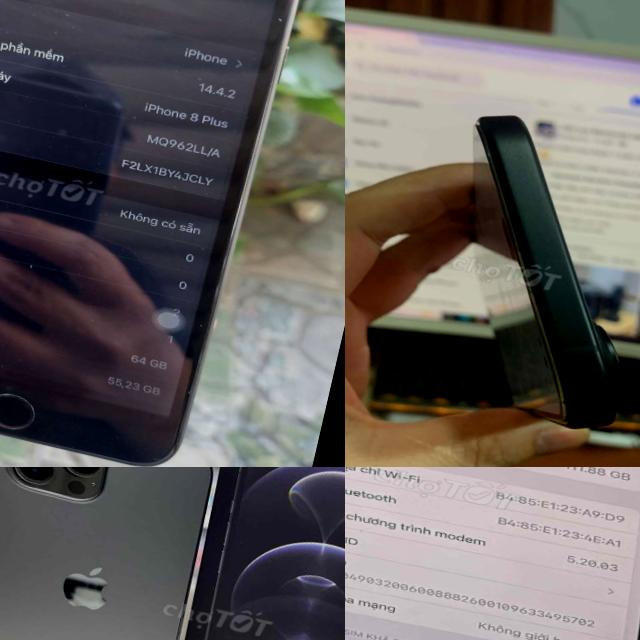gen_12_13: (345, 467, 640, 640), (0, 467, 244, 640)
gen_16: (472, 115, 622, 427)
gen_7_8: (0, 0, 319, 467)
